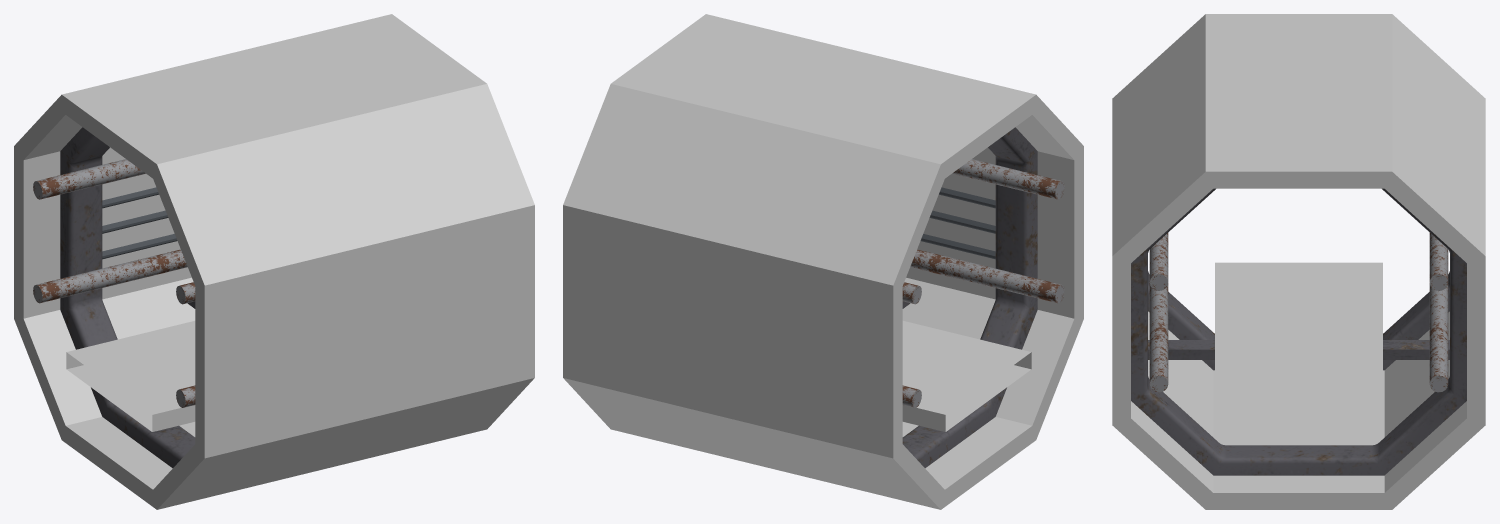
File: LabTunnel_Straight 1.fbx
The picture shows the model from 3 angles, left to right: view 1: azimuth 30°, elevation 25°; view 2: azimuth 150°, elevation 25°; view 3: azimuth 270°, elevation 25°; orthographic projection. The views are drawn at different scales.
Visible parts, largest first — view 1: Straight_Tunnel, Support, Platform_Straight, Pipe_Straight_Left, Vent, Pipe_Straight_Right; view 2: Straight_Tunnel, Support, Platform_Straight, Pipe_Straight_Right, Vent, Pipe_Straight_Left; view 3: Straight_Tunnel, Platform_Straight, Support, Pipe_Straight_Left, Pipe_Straight_Right.
Part boxes in pixels (bbox=[...]): Straight_Tunnel: bbox=[14, 14, 534, 509]; Support: bbox=[60, 127, 195, 468]; Platform_Straight: bbox=[66, 321, 195, 431]; Pipe_Straight_Left: bbox=[33, 159, 187, 303]; Vent: bbox=[102, 187, 177, 259]; Pipe_Straight_Right: bbox=[176, 282, 195, 407]; Straight_Tunnel: bbox=[563, 14, 1083, 509]; Support: bbox=[902, 127, 1037, 468]; Platform_Straight: bbox=[902, 321, 1031, 431]; Pipe_Straight_Right: bbox=[910, 159, 1064, 303]; Vent: bbox=[920, 187, 995, 259]; Pipe_Straight_Left: bbox=[902, 282, 921, 407]; Straight_Tunnel: bbox=[1112, 14, 1485, 509]; Platform_Straight: bbox=[1215, 262, 1382, 437]; Support: bbox=[1131, 188, 1466, 475]; Pipe_Straight_Left: bbox=[1429, 233, 1448, 392]; Pipe_Straight_Right: bbox=[1149, 233, 1168, 392].
Size of the model in its own units: 500 by 500 by 500.
